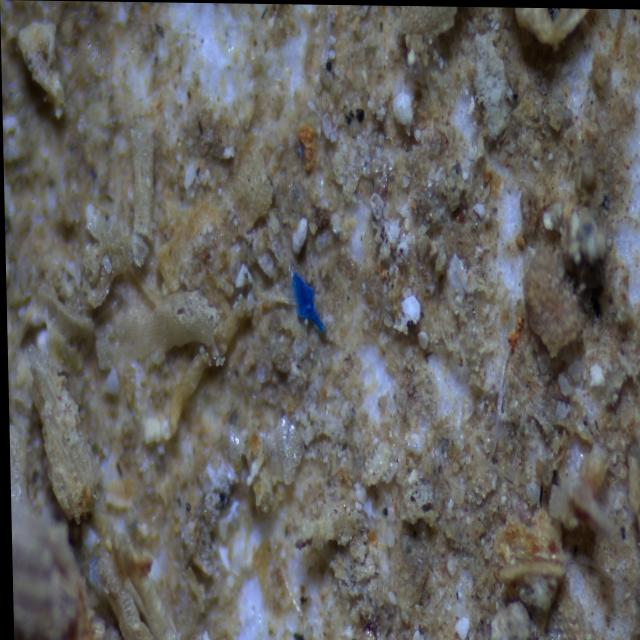microplastic: (280, 262, 327, 336)
